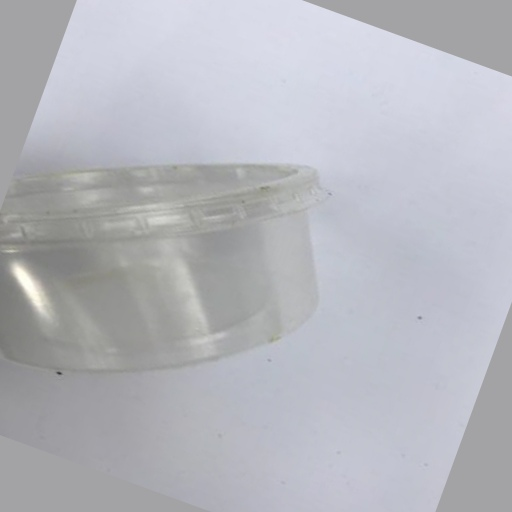Plastic_5: (4, 161, 334, 370)
